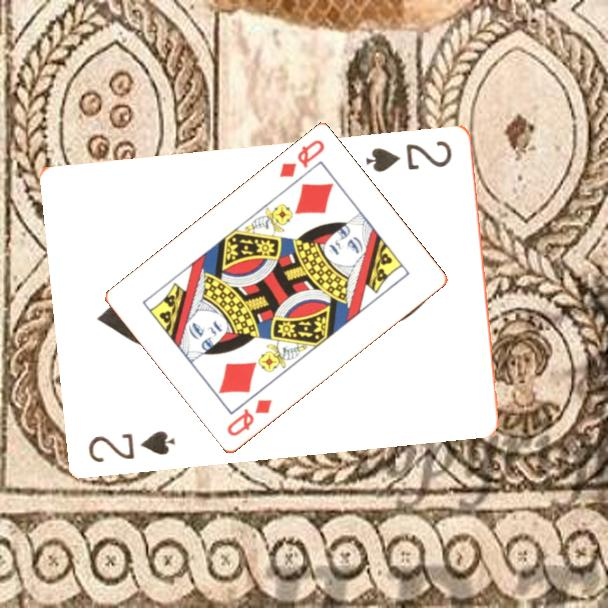d12: (275, 137, 328, 181), (223, 396, 275, 440)
s02: (362, 136, 455, 175), (85, 427, 179, 465)
